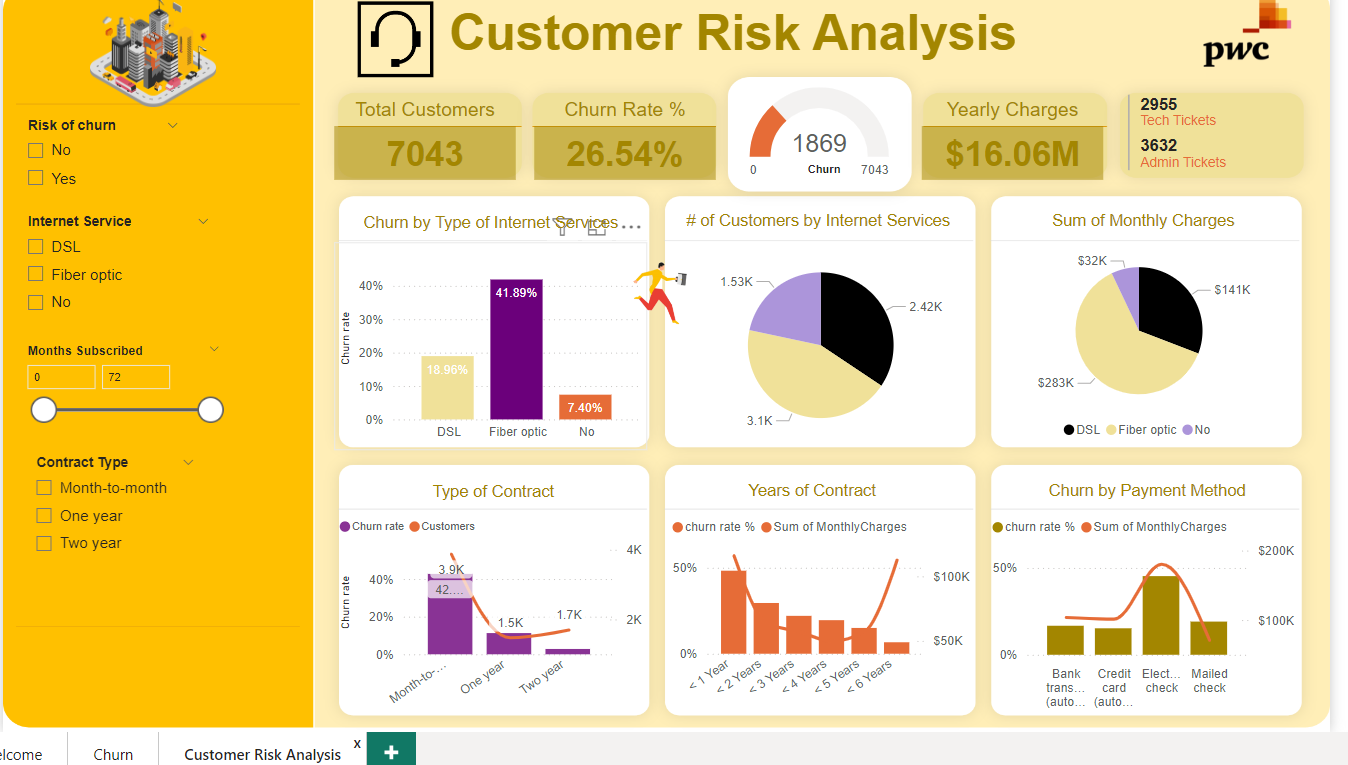

What the dashboard file says about the page in this screenshot:
{"tool":"powerbi","page":{"name":"Customer Risk Analysis","canvas":[1280,720],"ordinal":2},"visuals":[{"type":"textbox","box":[425.5,13.6,569.3,70.2],"z":1000},{"type":"image","box":[1139.6,9,121.5,74.2],"z":2000},{"type":"image","box":[331.6,9.1,93.9,83.7],"z":3000},{"type":"card","fields":{"Values":["CountNonNull(churn.customerID)"]},"box":[319.2,134.7,175.4,52.1],"z":4000},{"type":"card","fields":{"Values":["churn.churn rate %"]},"box":[512.7,134.7,175.4,52.1],"z":5000},{"type":"gauge","fields":{"MaxValue":["CountNonNull(churn.customerID)"],"Y":["churn.Count of Churn for Yes"]},"box":[698.3,92.8,178.8,100.7],"z":6000},{"type":"textbox","box":[763.9,164.1,57.7,29.4],"z":7000},{"type":"card","fields":{"Values":["Sum(churn.TotalCharges)"]},"box":[887.3,134.7,175.4,52.1],"z":8000},{"type":"multiRowCard","fields":{"Values":["Sum(churn.numTechTickets)","Sum(churn.numAdminTickets)"]},"box":[1080.8,100.7,179.9,86],"z":9000},{"type":"image","box":[0,0,289.5,121.9],"z":10000},{"type":"clusteredColumnChart","fields":{"Category":["churn.InternetService"],"Y":["churn.churn rate %"]},"box":[319.2,247.9,302.2,199.2],"z":11000},{"type":"pieChart","fields":{"Category":["churn.InternetService"],"Y":["CountNonNull(churn.customerID)"]},"box":[640.6,247.9,297.6,199.2],"z":12000},{"type":"pieChart","fields":{"Y":["Sum(churn.MonthlyCharges)"],"Category":["churn.InternetService"]},"box":[949.5,247.9,294.3,199.2],"z":13000},{"type":"lineClusteredColumnComboChart","fields":{"Category":["churn.Contract"],"Y":["churn.churn rate %"],"Y2":["CountNonNull(churn.customerID)"]},"box":[319.2,502.5,302.2,202.6],"z":14000},{"type":"lineClusteredColumnComboChart","fields":{"Y":["churn.churn rate %"],"Y2":["Sum(churn.MonthlyCharges)"],"Category":["churn.Loyalty"]},"box":[640.6,502.5,297.6,202.6],"z":15000},{"type":"lineClusteredColumnComboChart","fields":{"Y":["churn.churn rate %"],"Y2":["Sum(churn.MonthlyCharges)"],"Category":["churn.PaymentMethod"]},"box":[949.5,502.5,302.2,202.6],"z":16000},{"type":"image","box":[601,230.9,65.6,129],"z":18000},{"type":"slicer","fields":{"Values":["churn.Churn"]},"box":[11.3,122.2,170.9,83.7],"z":19000},{"type":"slicer","fields":{"Values":["churn.InternetService"]},"box":[11.3,215,200.3,116.6],"z":20000},{"type":"slicer","title":"Number of months subscribed","fields":{"Values":["churn.tenure"]},"box":[11.3,340.7,210.5,106.4],"z":21000},{"type":"slicer","fields":{"Values":["churn.Contract"]},"box":[19.2,447,177.7,112],"z":22000},{"type":"textbox","box":[319.2,104.1,175.4,36.2],"z":23000},{"type":"textbox","box":[512.7,104.1,175.4,36.2],"z":24000},{"type":"textbox","box":[887.3,104.1,175.4,36.2],"z":25000},{"type":"textbox","box":[319.2,215,302.2,36.2],"z":26000},{"type":"textbox","box":[636,212.8,302.2,36.2],"z":27000},{"type":"textbox","box":[949.5,212.8,302.2,36.2],"z":28000},{"type":"textbox","box":[322.5,474.4,302.2,36.2],"z":29000},{"type":"textbox","box":[629.2,473.1,302.2,36.2],"z":30000},{"type":"textbox","box":[952.9,473.2,302.2,36.2],"z":31000}]}

Visuals, with their boxes on the page's 1280x720 design canvas (x1, y1, x2, y2). These are canvas units, not pixel positions in the 1348x765 screenshot, which may show the page scaled, cropped or inside an application window:
textbox: (426,14,995,84)
image: (1140,9,1261,83)
image: (332,9,426,93)
card - CountNonNull(churn.customerID): (319,135,495,187)
card - churn.churn rate %: (513,135,688,187)
gauge - CountNonNull(churn.customerID) x churn.Count of Churn for Yes: (698,93,877,194)
textbox: (764,164,822,194)
card - Sum(churn.TotalCharges): (887,135,1063,187)
multiRowCard - Sum(churn.numTechTickets) x Sum(churn.numAdminTickets): (1081,101,1261,187)
image: (0,0,290,122)
clusteredColumnChart - churn.InternetService x churn.churn rate %: (319,248,621,447)
pieChart - churn.InternetService x CountNonNull(churn.customerID): (641,248,938,447)
pieChart - Sum(churn.MonthlyCharges) x churn.InternetService: (950,248,1244,447)
lineClusteredColumnComboChart - churn.Contract x churn.churn rate %: (319,502,621,705)
lineClusteredColumnComboChart - churn.churn rate % x Sum(churn.MonthlyCharges): (641,502,938,705)
lineClusteredColumnComboChart - churn.churn rate % x Sum(churn.MonthlyCharges): (950,502,1252,705)
image: (601,231,667,360)
slicer - churn.Churn: (11,122,182,206)
slicer - churn.InternetService: (11,215,212,332)
"Number of months subscribed" slicer: (11,341,222,447)
slicer - churn.Contract: (19,447,197,559)
textbox: (319,104,495,140)
textbox: (513,104,688,140)
textbox: (887,104,1063,140)
textbox: (319,215,621,251)
textbox: (636,213,938,249)
textbox: (950,213,1252,249)
textbox: (322,474,625,511)
textbox: (629,473,931,509)
textbox: (953,473,1255,509)
